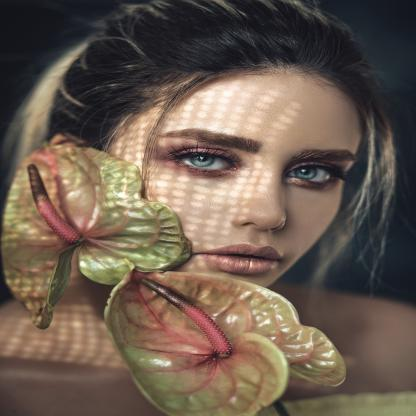Eye: (168, 142, 240, 178), (286, 160, 346, 190)
Mouth: (200, 241, 282, 275)
Nose: (229, 177, 290, 232)
